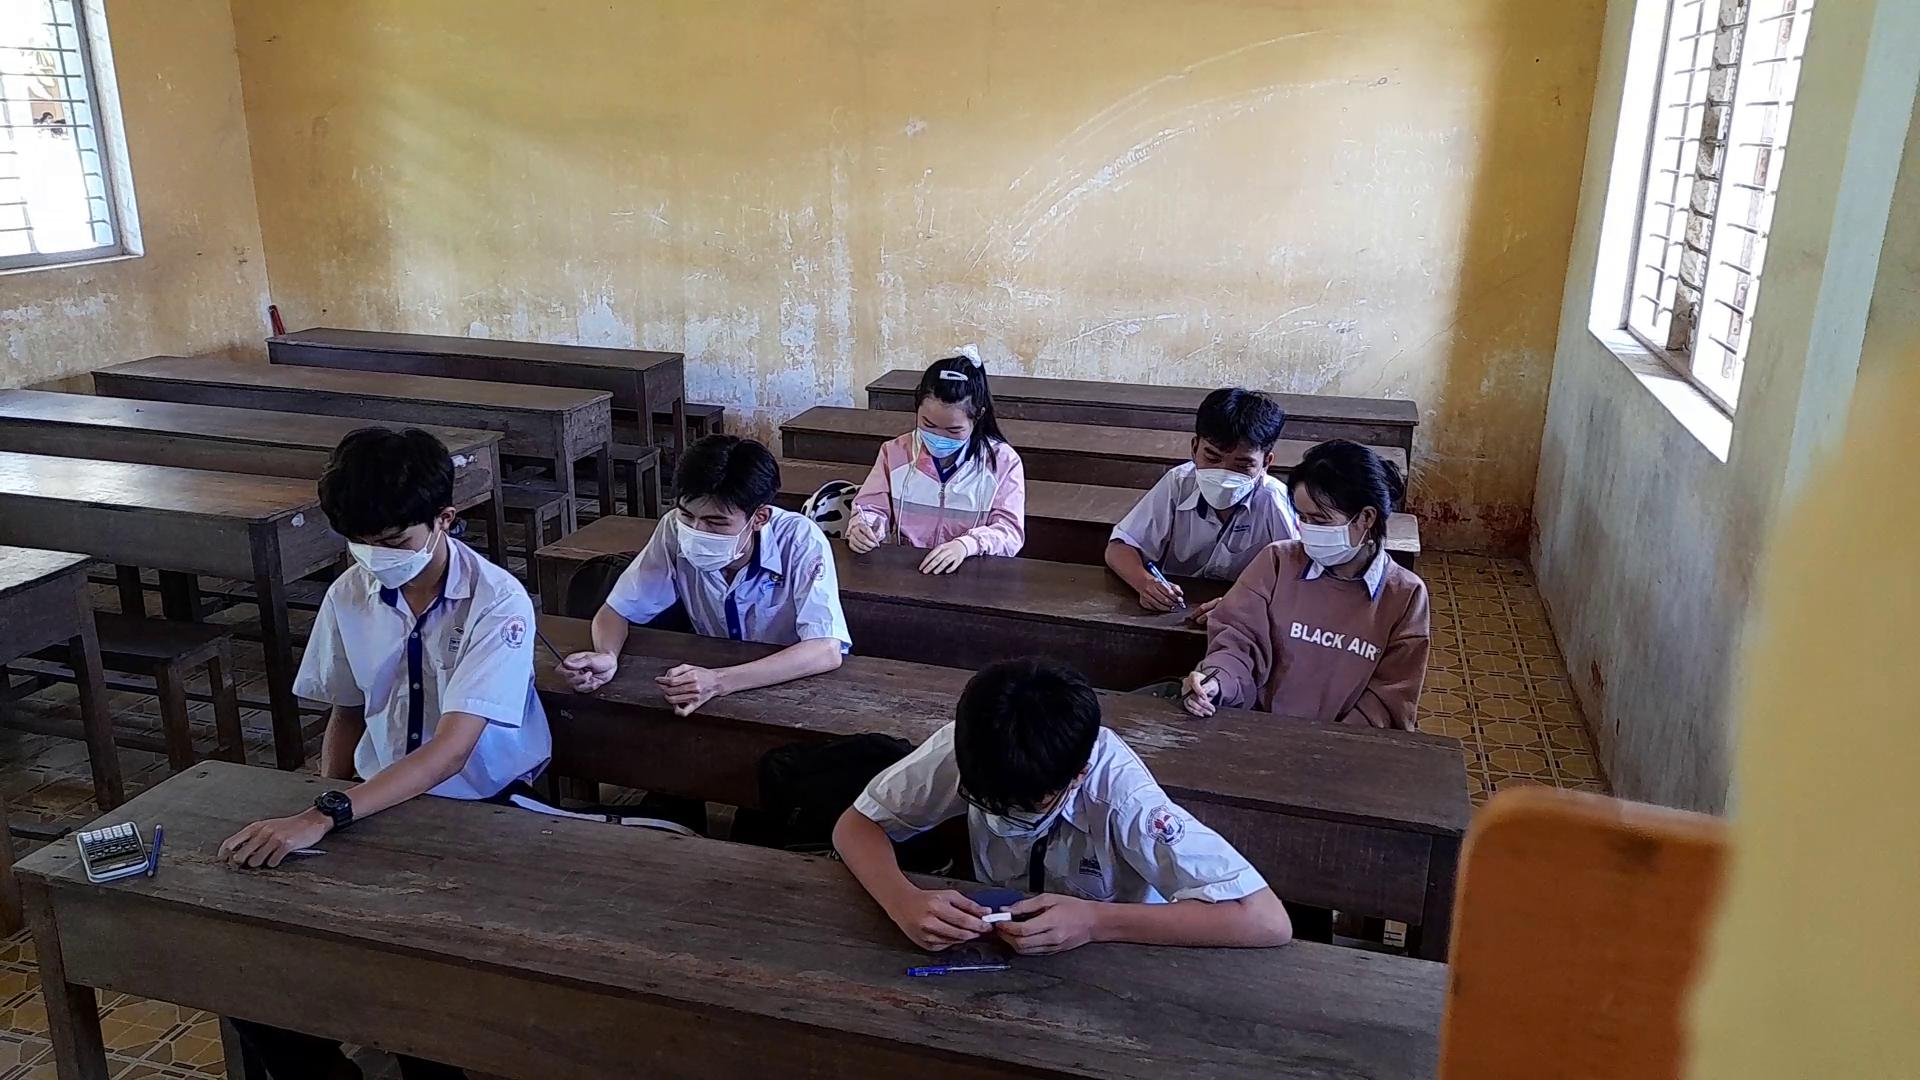Hand Under Table: (1338, 579, 1435, 746), (299, 584, 368, 782)
